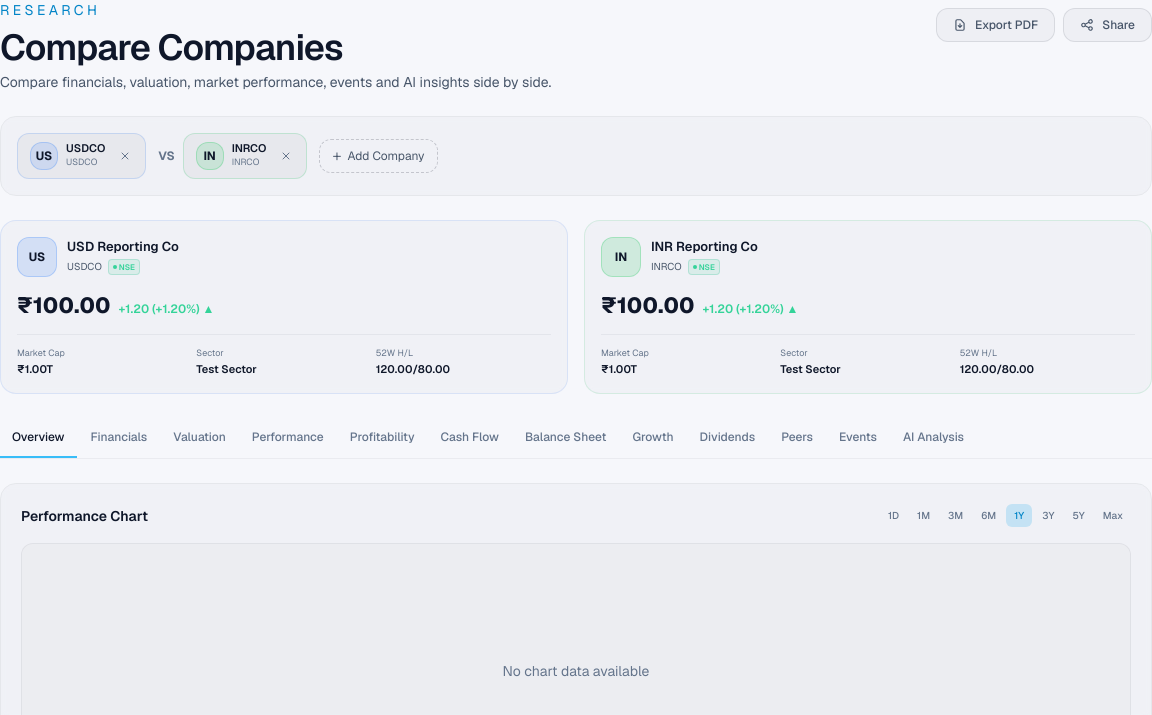
Test case: CompareContent — ranking-alignment guard (2026-09-27) › never ranks Free Cash Flow when the compared companies' currencies differ
Check: the text "USD Reporting Co" is shown, box left=67, top=237, right=179, bottom=256
Click the button "Balance Sheet".
click(566, 438)  # box left=513, top=418, right=618, bottom=458
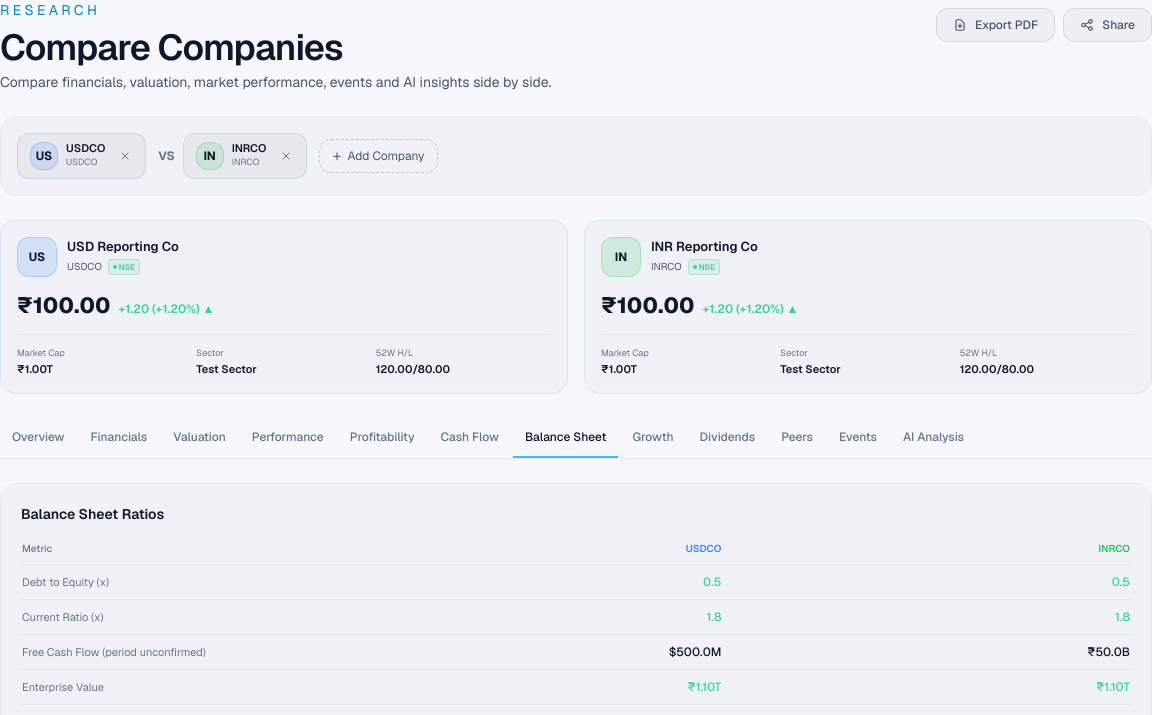
Check: the text "Balance Sheet Ratios" is shown, box left=21, top=504, right=164, bottom=524
